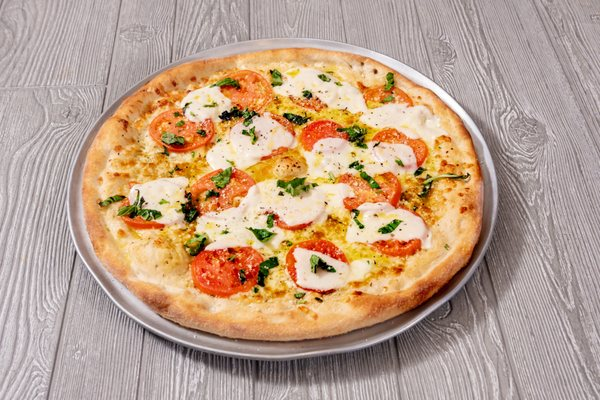curry: (14, 0, 598, 392)
sandwich: (77, 46, 480, 340)
